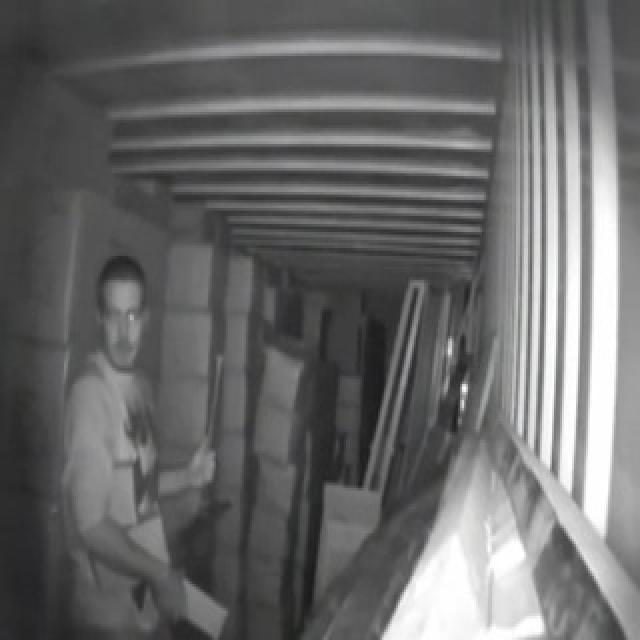thief: (70, 261, 226, 640)
